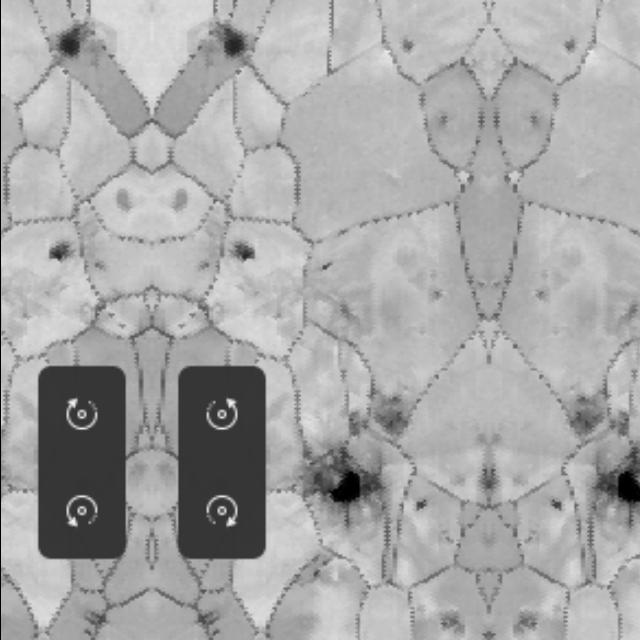good_void: (337, 386, 413, 444), (565, 386, 640, 444), (319, 460, 369, 506), (609, 460, 640, 506), (220, 21, 249, 60), (54, 21, 83, 60), (46, 240, 74, 267), (229, 240, 256, 267), (167, 185, 190, 214), (113, 185, 136, 214), (438, 609, 466, 629), (512, 609, 540, 629), (399, 33, 418, 61), (560, 33, 579, 61), (427, 279, 445, 304), (533, 279, 551, 304), (198, 609, 222, 627), (81, 609, 105, 627), (438, 105, 453, 133), (525, 105, 540, 133), (195, 256, 212, 274), (91, 256, 108, 274), (413, 498, 433, 513), (545, 498, 565, 513), (316, 261, 337, 274), (481, 467, 489, 494), (489, 467, 497, 494), (176, 320, 188, 330), (115, 320, 126, 330), (187, 311, 197, 318), (106, 311, 116, 318)
